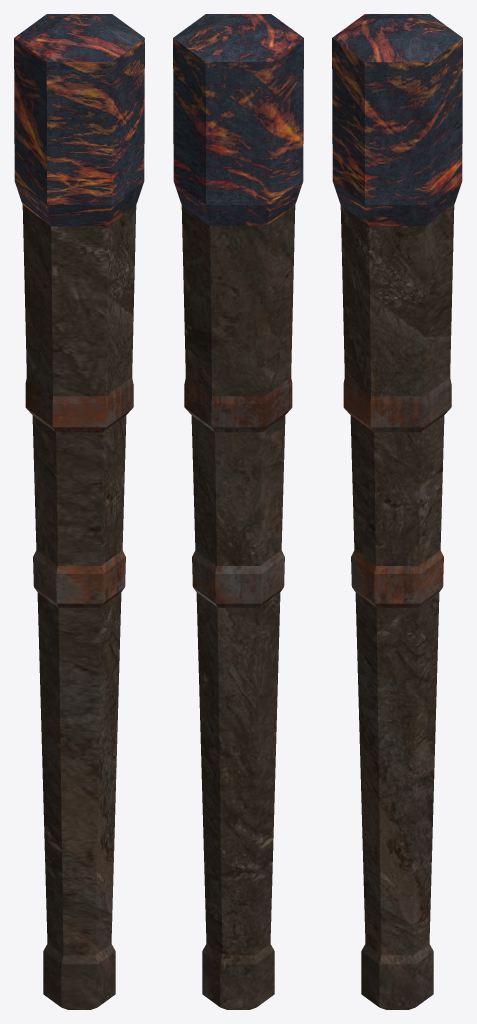
Rendered from torch.obj.
3 renders of one model, left to right at view 1: azimuth 30°, elevation 25°; view 2: azimuth 150°, elevation 25°; view 3: azimuth 330°, elevation 25°, orthographic.
Parts seen in each view (by area): view 1: Cylinder; view 2: Cylinder; view 3: Cylinder.
Boxes of the visible parts, <box> form: Cylinder: <box>14,14,144,1009</box>; Cylinder: <box>173,14,303,1009</box>; Cylinder: <box>332,14,462,1009</box>.
Size of the model in its own units: 0.2452 by 2.32 by 0.2831.
Materials: 3 (3 with a texture image).
